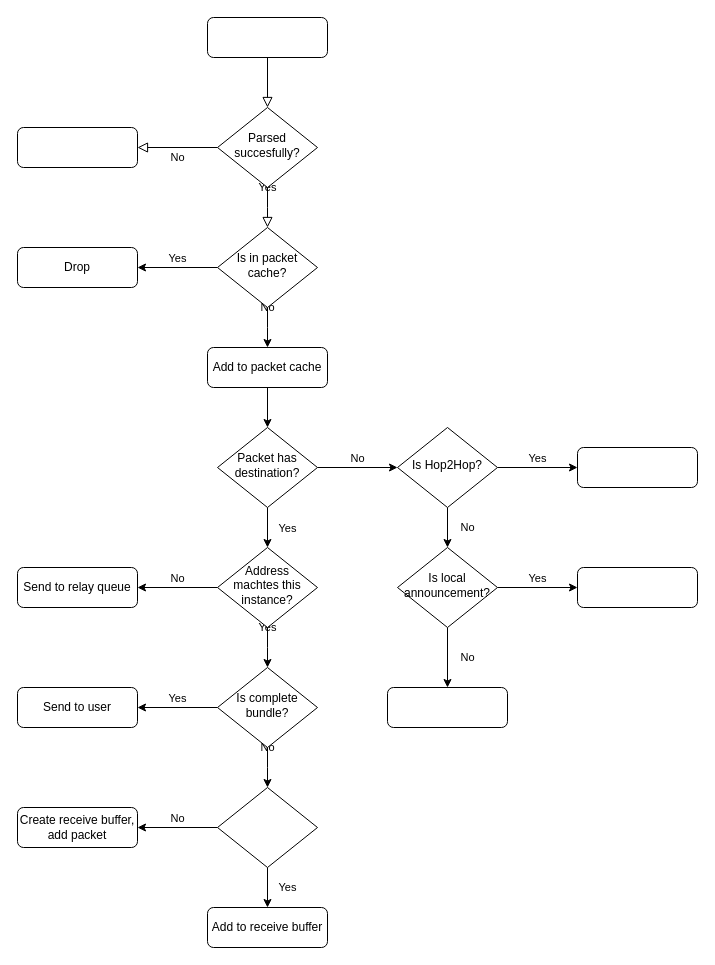
Image size: 715x965. Some labels were removed from this diagram. Here are the shapes that lost their labels. From the top down, the box of each, then its label:
(206, 16, 328, 58): Uplink from MQTT callback
(16, 126, 138, 168): Error
(576, 446, 698, 488): Add to Hop2Hop buffer
(576, 566, 698, 608): Send to local announcement processor
(386, 686, 508, 728): Log error, drop
(216, 786, 318, 868): Packet matches existing receive buffer?
